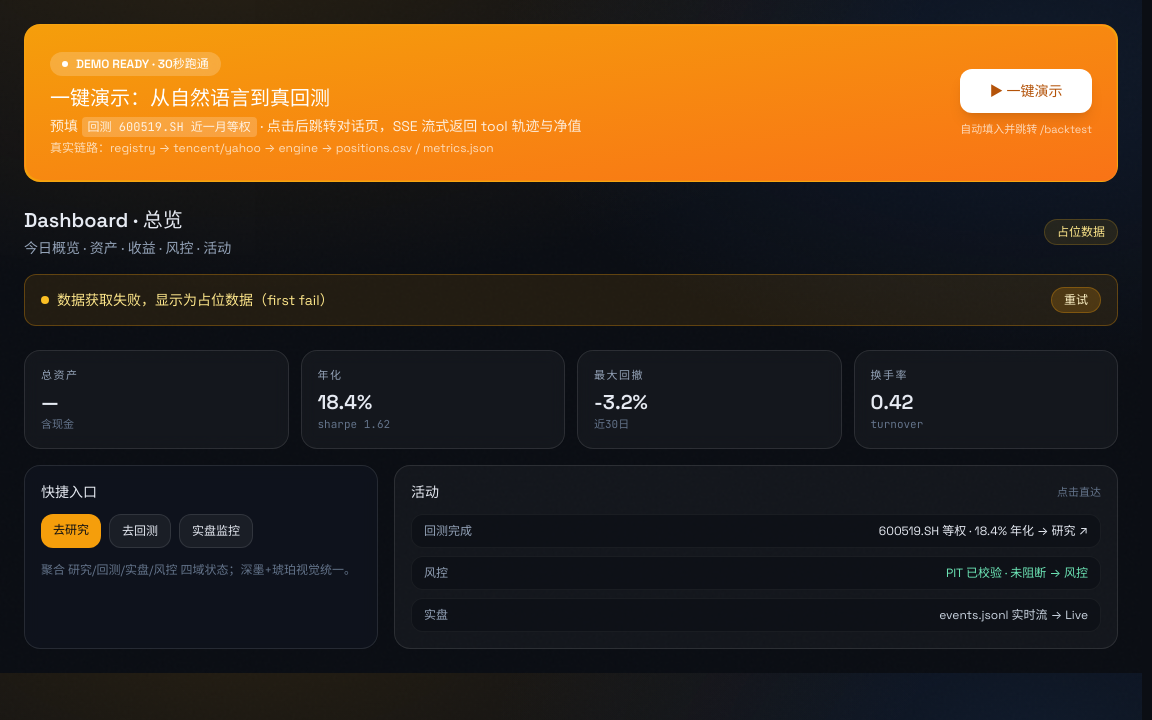
Scenario: Dashboard retry button re-runs load after failure
Expected: the text "数据获取失败，显示为占位数据（first fail）" is shown, [41, 290, 334, 310]
Click the button "重试".
click(1076, 300)  # box [1051, 287, 1101, 313]
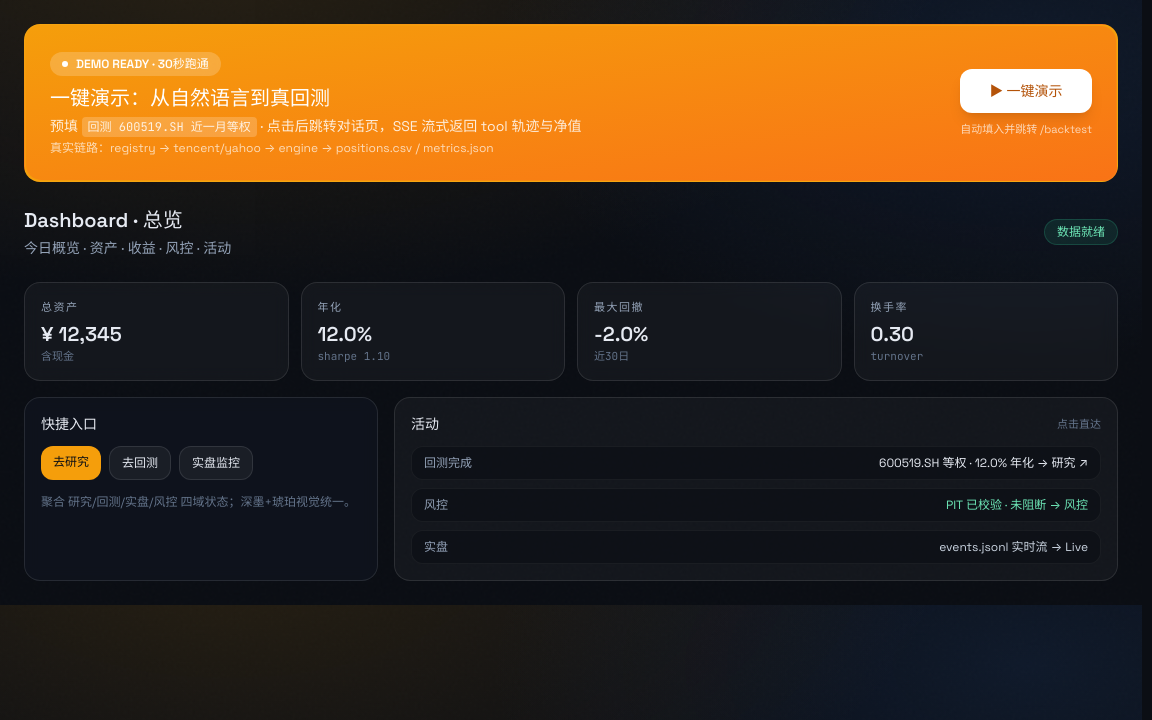
Result: the text "数据获取失败，显示为占位数据" is gone
Result: the text "12.0%" is shown at [318, 320, 372, 346]
